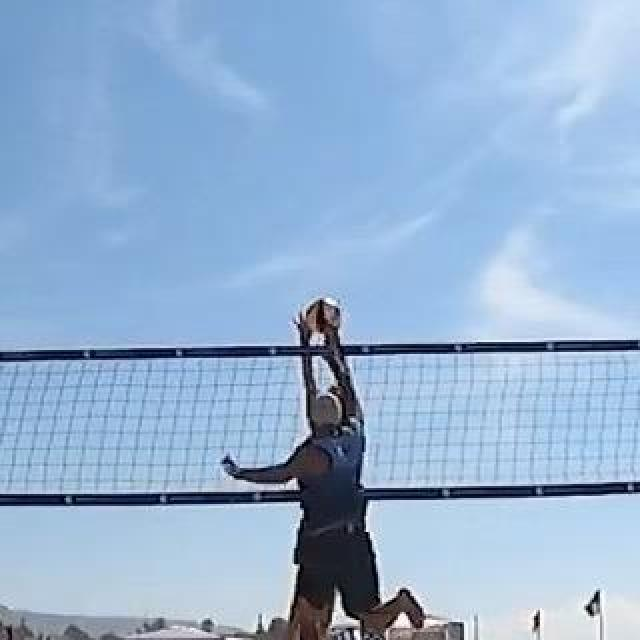volleyball: (304, 299, 338, 335)
